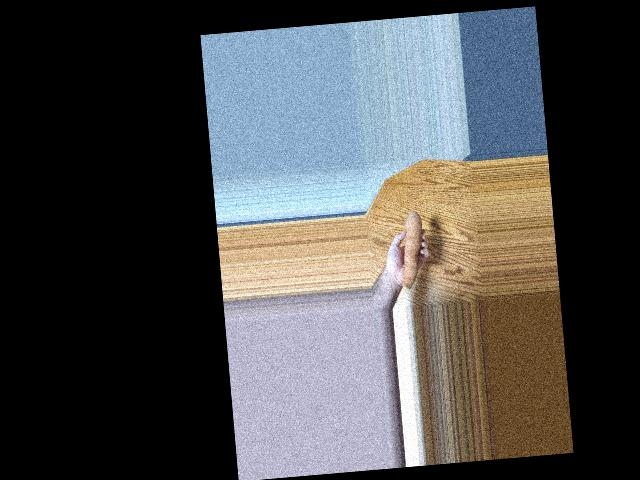sweet_potato: (395, 210, 432, 285)
